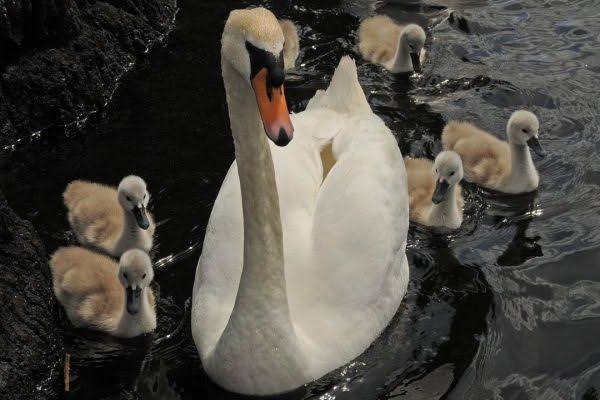swan: (191, 6, 413, 396), (49, 245, 157, 340), (438, 109, 541, 196), (62, 175, 157, 258), (405, 151, 466, 233), (355, 15, 428, 76)
